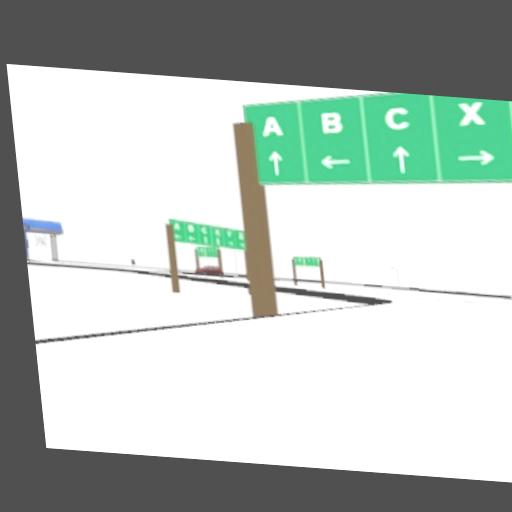A: (259, 114, 283, 137)
B: (320, 110, 343, 134)
C: (382, 105, 410, 131)
Left: (318, 154, 351, 170)
Right: (455, 148, 495, 167)
Straight: (391, 145, 410, 173), (268, 150, 284, 175)
X: (456, 98, 486, 126)
